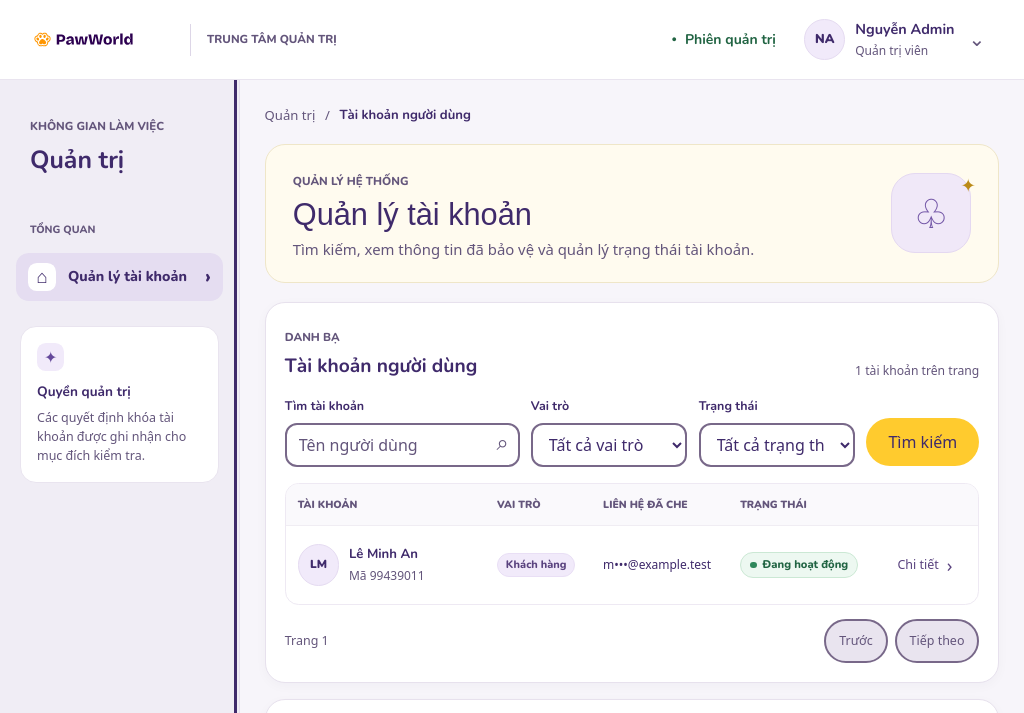
Test case: uncertain role responses require reload and never show success or resubmit
Click the button with aria-label "Xem chi tiết Lê Minh An" at (925, 565), box [887,539,962,591]
(page scrolled)
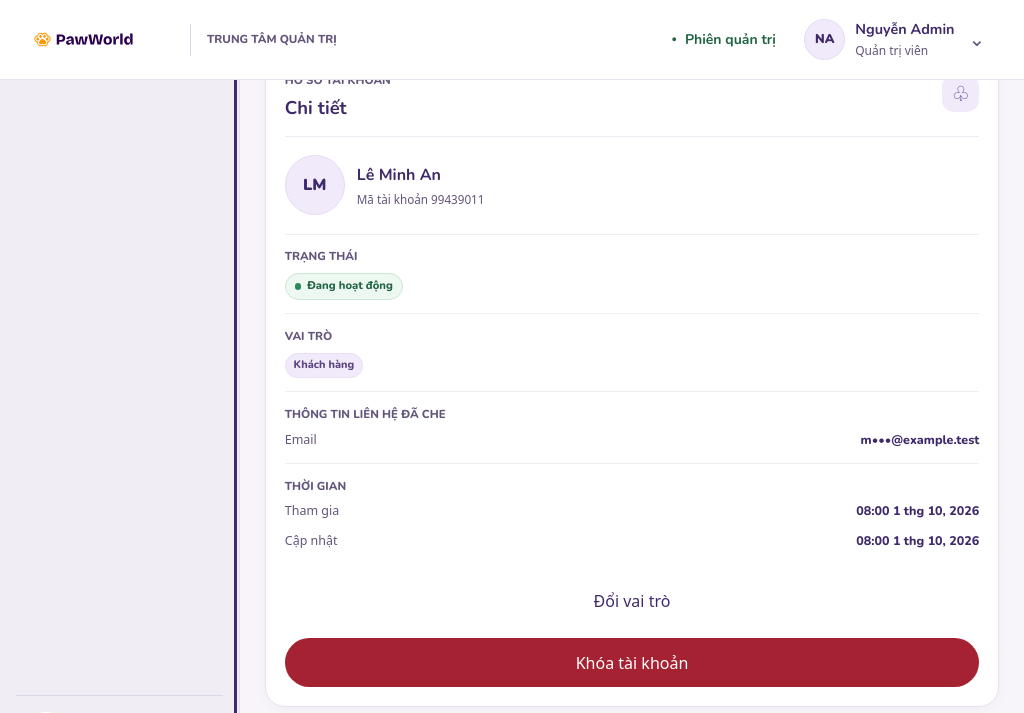
Click the button "Đổi vai trò" at (632, 601), box [285,577,979,626]
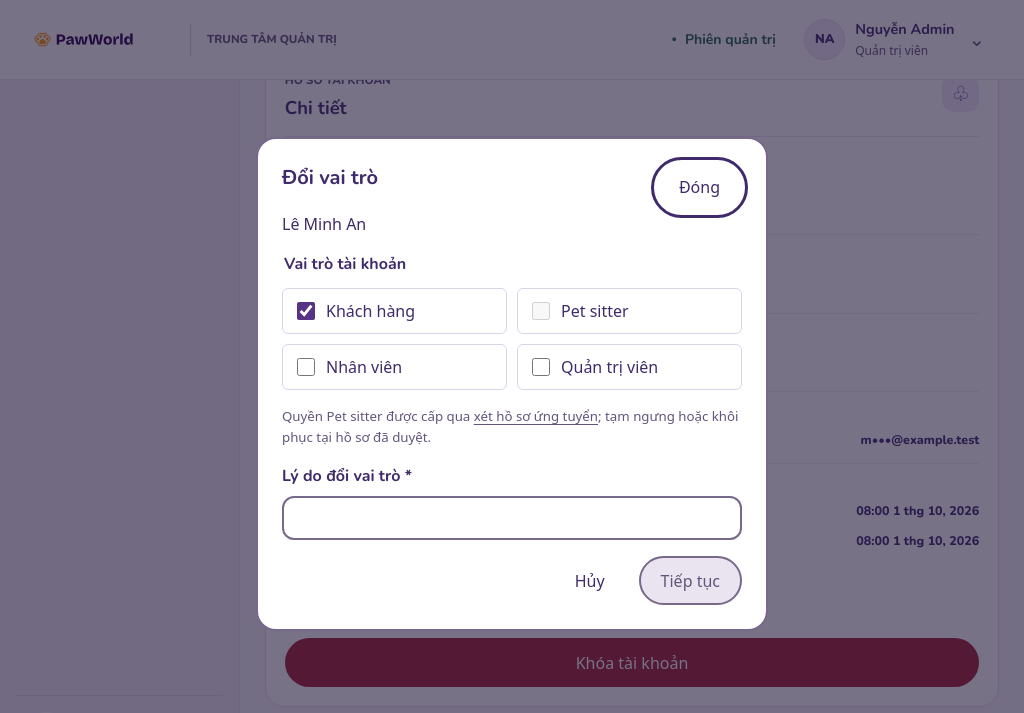
Click the checkbox labelled "Nhân viên" at (306, 367), box [297,358,315,376]
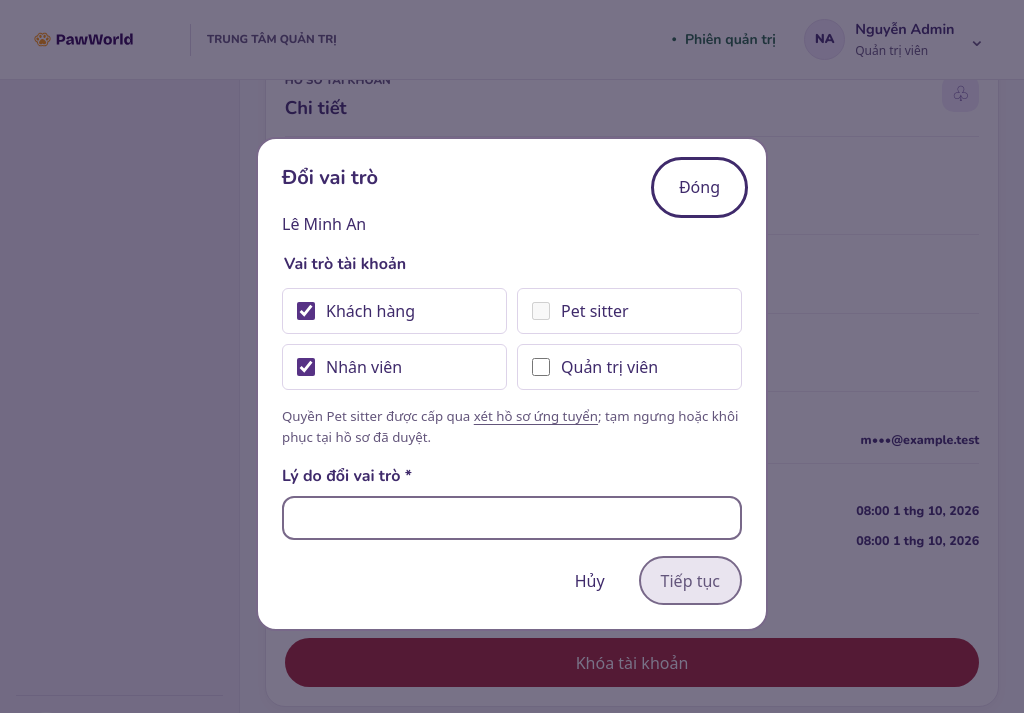
Type "Synthetic reason" into the field labelled "Lý do đổi vai trò *" at (512, 518), box [282,496,742,540]
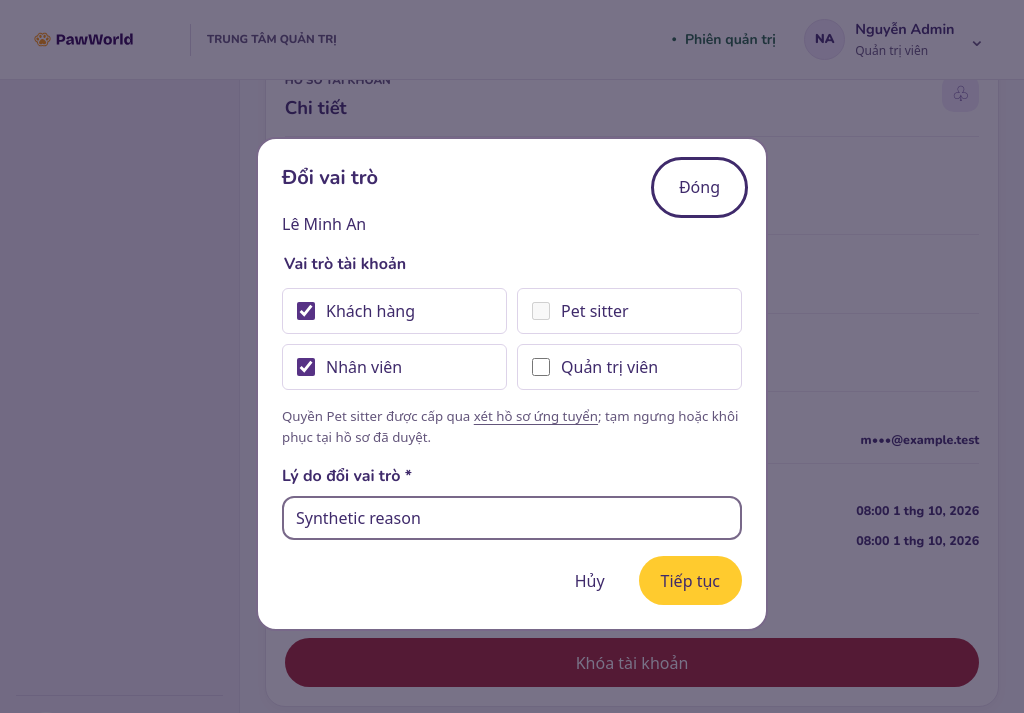
Click the button "Tiếp tục" at (690, 581), box [639,556,742,605]
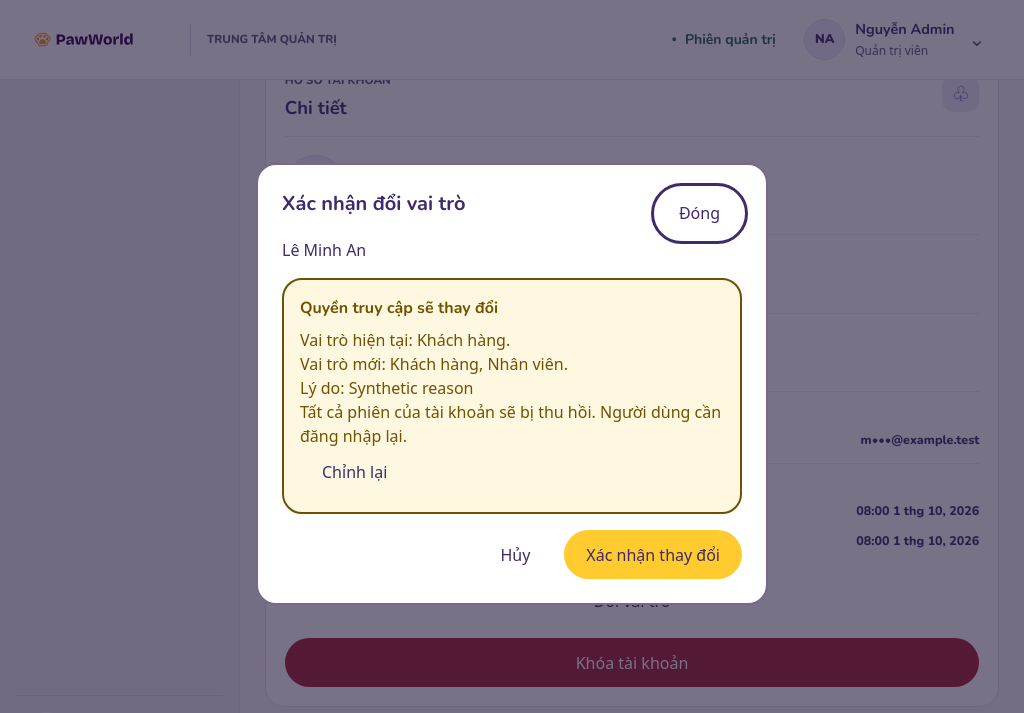
Click the button "Xác nhận thay đổi" at (653, 555), box [564,530,742,579]
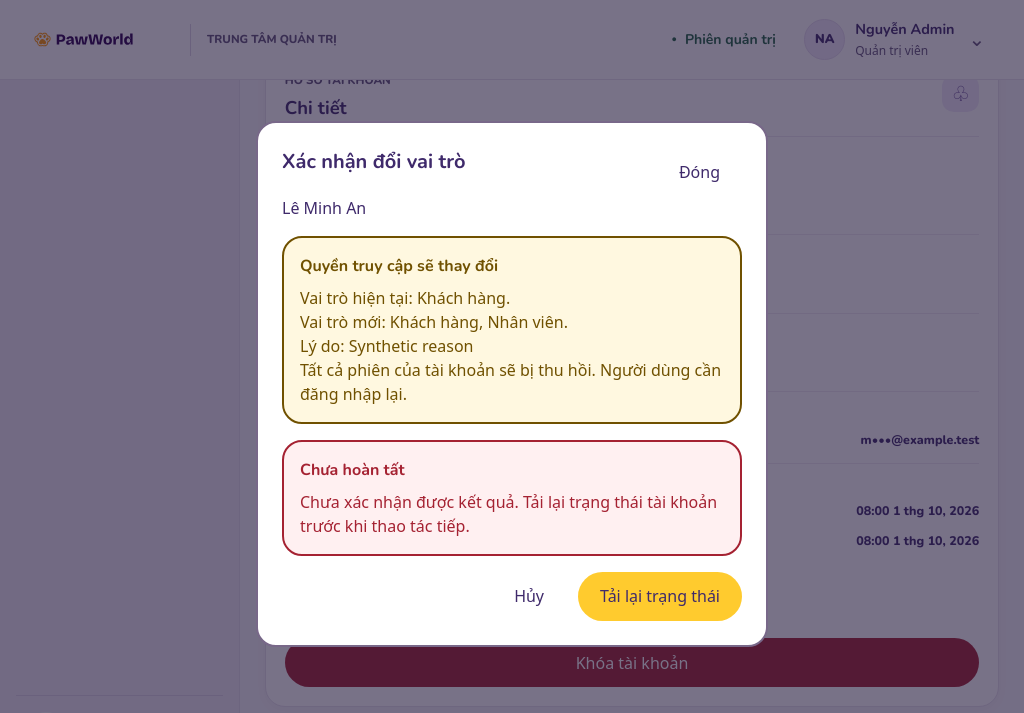
expect the text "Chưa xác nhận được kết quả" is shown: met, box [300,491,717,537]
expect the button "Xác nhận thay đổi" is gone: met
expect the button "Tải lại trạng thái" is shown: met, box [578,572,742,621]
